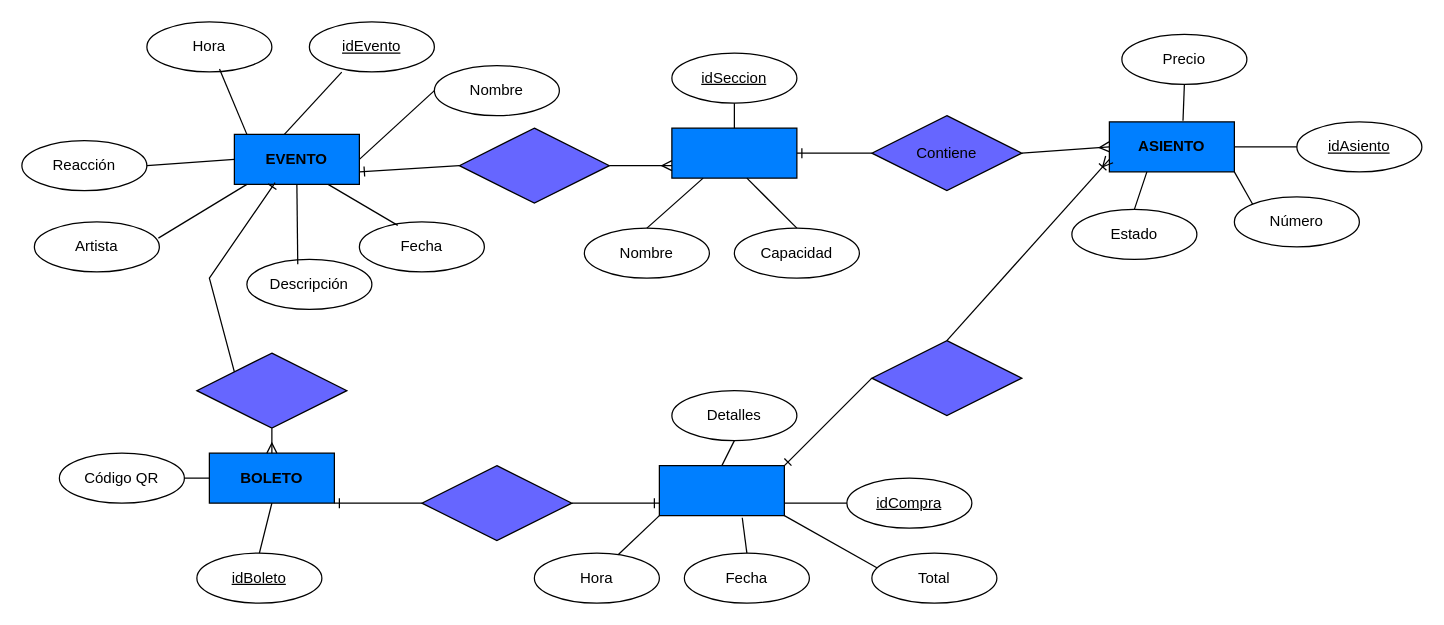
The diagram is 1444 pixels wide and 625 high, and some of its shapes have lost their labels. Each missing label, with the box of its shape:
COMPRA: (658, 464, 784, 516)
Genera: (421, 464, 572, 541)
Incluye: (871, 339, 1022, 416)
Pertenece: (196, 352, 347, 428)
SECCIÓN: (671, 127, 797, 178)
Tiene: (458, 127, 609, 203)
